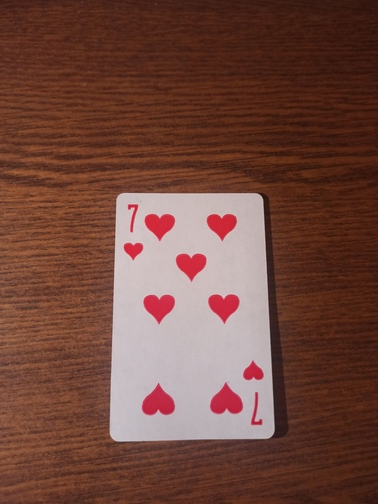sevenhearts: (108, 188, 283, 443)
